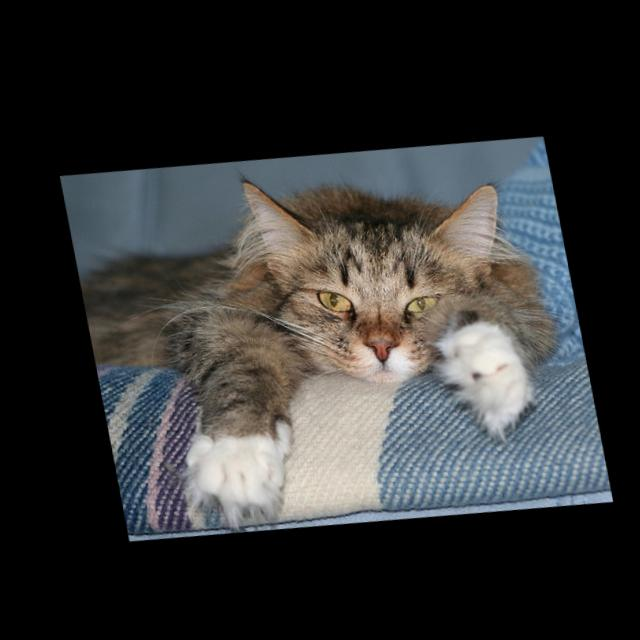animals: (241, 144, 520, 377)
